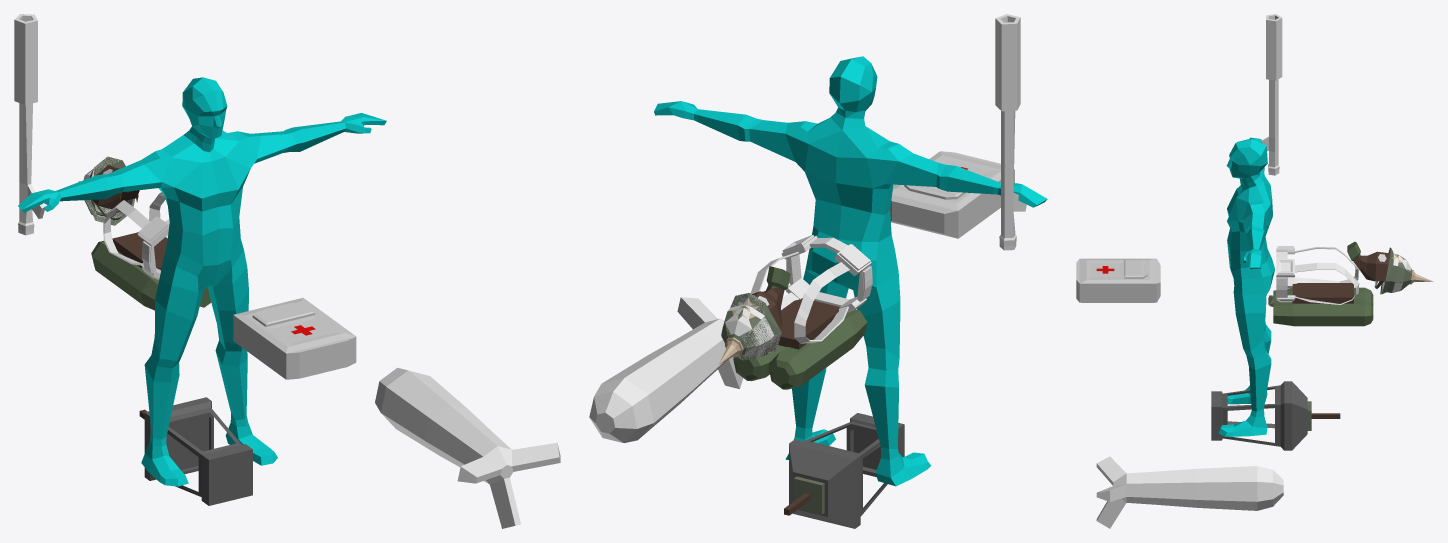
The model's file is Soldier Gear.fbx.
3 renders of one model, left to right at view 1: azimuth 30°, elevation 25°; view 2: azimuth 150°, elevation 25°; view 3: azimuth 270°, elevation 25°, orthographic. The views are drawn at different scales.
Parts seen in each view (by area): view 1: LowMan, Bomb, Med Kit, Lantern, Flame Thrower Nozzle, FlameThrower, Ammo Belt 2, Gas Mask, Helmet Captain; view 2: LowMan, Bomb, Lantern, FlameThrower, Med Kit, Ammo Belt 2, Flame Thrower Nozzle, Helmet Captain, Helmet, Gas Mask; view 3: LowMan, Bomb, FlameThrower, Med Kit, Lantern, Flame Thrower Nozzle, Ammo Belt 2, Gas Mask, Helmet Captain.
Part boxes in pixels (x1=…): LowMan: x1=18, y1=77, x2=386, y2=486; Bomb: x1=375, y1=367, x2=560, y2=528; Med Kit: x1=233, y1=297, x2=356, y2=379; Lantern: x1=139, y1=397, x2=252, y2=505; Flame Thrower Nozzle: x1=14, y1=14, x2=44, y2=235; FlameThrower: x1=91, y1=232, x2=211, y2=310; Ammo Belt 2: x1=103, y1=192, x2=169, y2=280; Gas Mask: x1=91, y1=164, x2=139, y2=220; Helmet Captain: x1=79, y1=156, x2=135, y2=225; LowMan: x1=654, y1=56, x2=1047, y2=486; Bomb: x1=589, y1=297, x2=743, y2=442; Lantern: x1=784, y1=413, x2=904, y2=528; FlameThrower: x1=733, y1=298, x2=867, y2=389; Med Kit: x1=890, y1=151, x2=1014, y2=238; Ammo Belt 2: x1=750, y1=235, x2=872, y2=343; Flame Thrower Nozzle: x1=995, y1=14, x2=1026, y2=250; Helmet Captain: x1=718, y1=293, x2=781, y2=364; Helmet: x1=725, y1=293, x2=781, y2=359; Gas Mask: x1=752, y1=266, x2=790, y2=329; LowMan: x1=1218, y1=137, x2=1274, y2=436; Bomb: x1=1096, y1=456, x2=1283, y2=528; FlameThrower: x1=1268, y1=283, x2=1373, y2=326; Med Kit: x1=1076, y1=258, x2=1160, y2=302; Lantern: x1=1211, y1=381, x2=1340, y2=450; Flame Thrower Nozzle: x1=1262, y1=14, x2=1282, y2=175; Ammo Belt 2: x1=1276, y1=246, x2=1359, y2=304; Gas Mask: x1=1347, y1=241, x2=1389, y2=288; Helmet Captain: x1=1380, y1=247, x2=1433, y2=294.
Size of the model in its own units: 212 by 237 by 203.
